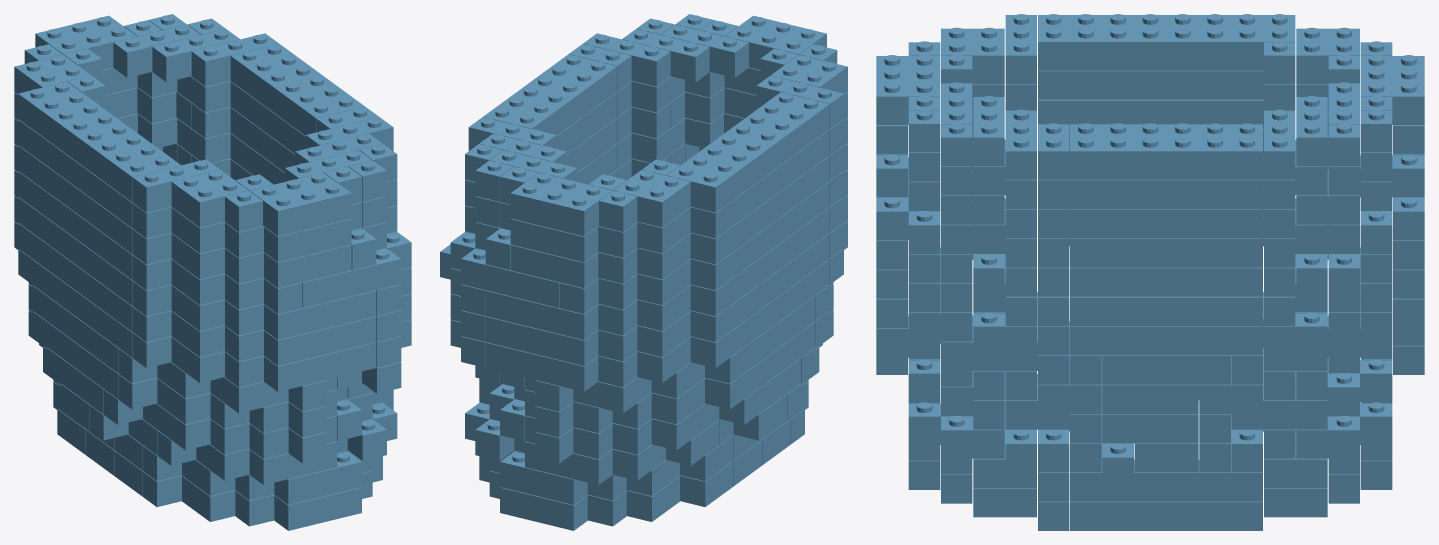
Rendered from 094_bowl_L4.glb.
3 views of the same model, side by side, from view 1: azimuth 30°, elevation 25°; view 2: azimuth 150°, elevation 25°; view 3: azimuth 270°, elevation 25° (orthographic). The views are drawn at different scales.
Size of the model in its own units: 10.98 by 13.13 by 16.98.
